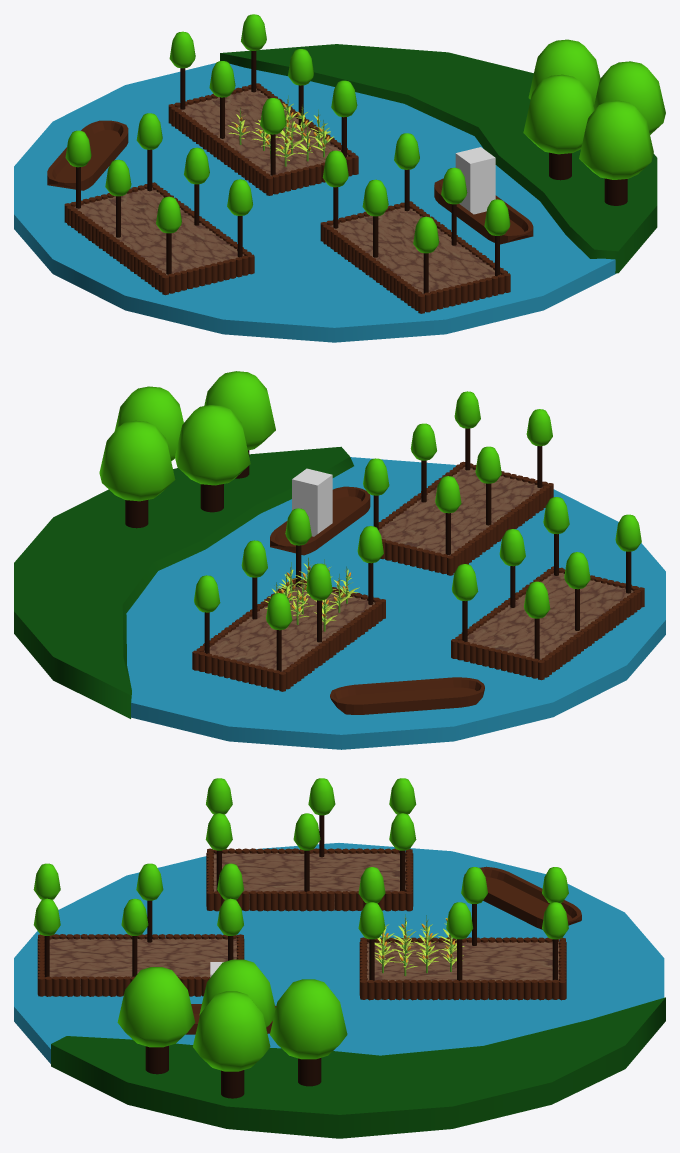
File: Blockout farm.FBX
The picture shows the model from 3 angles, top to bottom: view 1: azimuth 30°, elevation 25°; view 2: azimuth 150°, elevation 25°; view 3: azimuth 270°, elevation 25°; orthographic projection.
Parts seen in each view (by area): view 1: Cylinder001, Cylinder002, Box013, Box012, Box024, Sphere004, Cylinder010, Cylinder009, Sphere023, Cylinder008, Sphere024, Box011 (+21 smaller); view 2: Cylinder001, Cylinder002, Box013, Box012, Box024, Sphere023, Sphere025, Cylinder010, Cylinder008, Cylinder009, Box011, Sphere004 (+21 smaller); view 3: Cylinder001, Cylinder002, Box012, Box024, Box013, Cylinder008, Sphere024, Sphere025, Sphere004, Cylinder010, Cylinder009, Box011 (+19 smaller).
Boxes of the visible parts, x1=… form: Cylinder001: x1=14, y1=63, x2=616, y2=342; Cylinder002: x1=220, y1=44, x2=657, y2=273; Box013: x1=74, y1=188, x2=244, y2=275; Box012: x1=330, y1=207, x2=500, y2=294; Box024: x1=178, y1=88, x2=347, y2=176; Sphere004: x1=579, y1=100, x2=653, y2=205; Cylinder010: x1=64, y1=182, x2=254, y2=295; Cylinder009: x1=320, y1=201, x2=510, y2=313; Sphere023: x1=523, y1=74, x2=594, y2=180; Cylinder008: x1=168, y1=83, x2=358, y2=195; Sphere024: x1=594, y1=61, x2=665, y2=134; Box011: x1=47, y1=120, x2=128, y2=190; Cylinder001: x1=126, y1=457, x2=665, y2=749; Cylinder002: x1=14, y1=446, x2=353, y2=718; Box013: x1=467, y1=572, x2=633, y2=660; Box012: x1=378, y1=467, x2=542, y2=555; Box024: x1=204, y1=584, x2=374, y2=671; Sphere023: x1=175, y1=405, x2=250, y2=512; Sphere025: x1=99, y1=420, x2=175, y2=528; Cylinder010: x1=451, y1=566, x2=644, y2=680; Cylinder008: x1=192, y1=578, x2=385, y2=691; Cylinder009: x1=378, y1=461, x2=553, y2=575; Box011: x1=330, y1=677, x2=484, y2=714; Sphere004: x1=204, y1=371, x2=275, y2=478; Cylinder001: x1=14, y1=843, x2=664, y2=1063; Cylinder002: x1=51, y1=997, x2=665, y2=1138; Box012: x1=45, y1=938, x2=236, y2=994; Box024: x1=367, y1=941, x2=559, y2=997; Box013: x1=213, y1=852, x2=405, y2=908; Cylinder008: x1=359, y1=937, x2=566, y2=1000; Sphere024: x1=193, y1=991, x2=270, y2=1098; Sphere025: x1=270, y1=979, x2=347, y2=1086; Sphere004: x1=117, y1=967, x2=195, y2=1074; Cylinder010: x1=206, y1=848, x2=413, y2=911; Cylinder009: x1=37, y1=934, x2=244, y2=996; Box011: x1=464, y1=866, x2=581, y2=929.
Size of the model in its own units: 791 by 163 by 778.
Materials: 11 (1 with a texture image).
